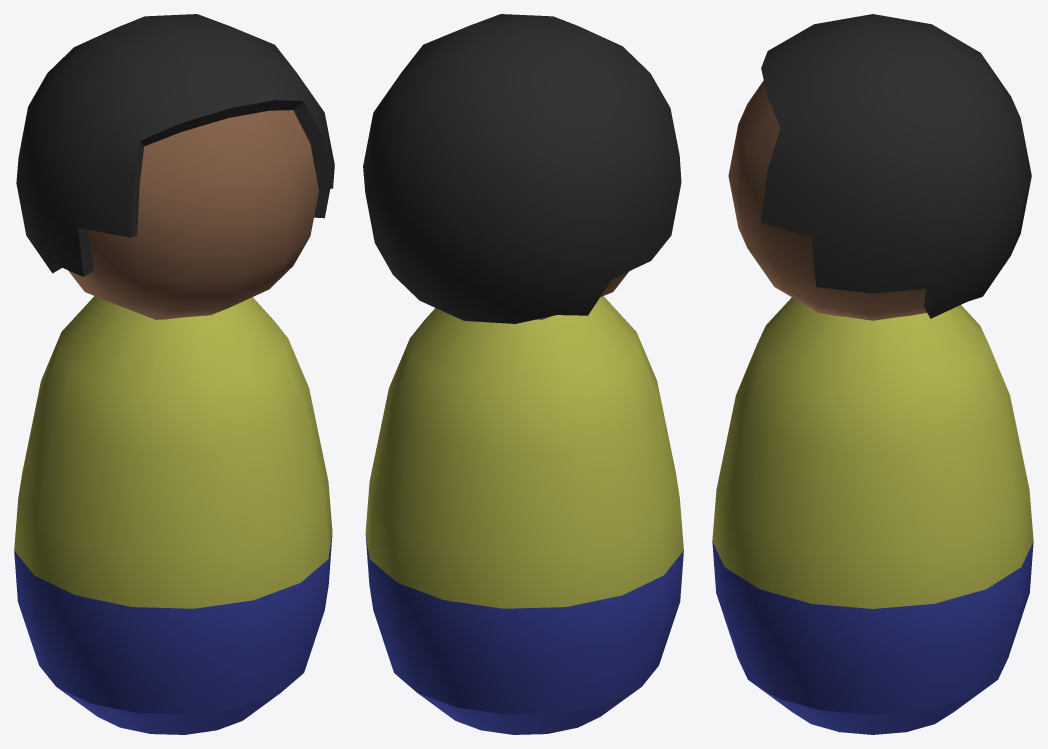
Rendered from Brasileño 02.fbx.
3 renders of one model, left to right at view 1: azimuth 30°, elevation 25°; view 2: azimuth 150°, elevation 25°; view 3: azimuth 270°, elevation 25°, orthographic.
Visible parts, largest first — view 1: Cylinder.051; view 2: Cylinder.051; view 3: Cylinder.051.
Part boxes in pixels (x1,y1,x2,y2): Cylinder.051: (14, 14, 334, 734); Cylinder.051: (363, 14, 683, 734); Cylinder.051: (712, 14, 1033, 734).
Bounding box in the file's own units: 0.7234 × 1.66 × 0.7212.
